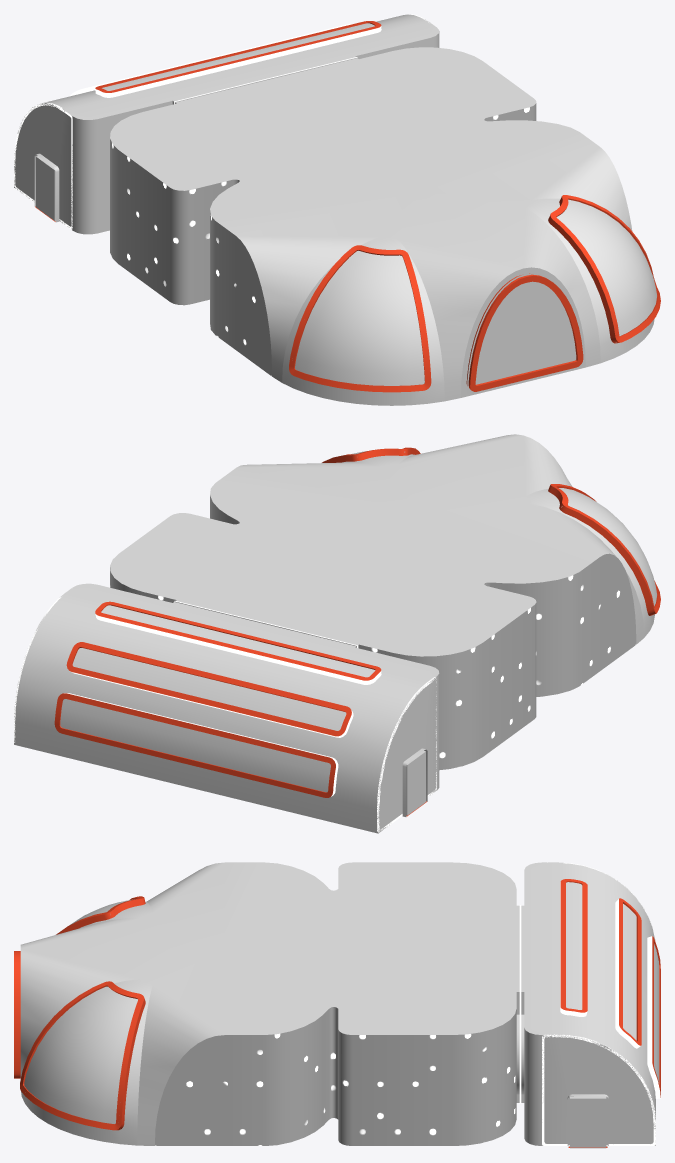
The model's file is MetaverseEnvironment03.fbx.
The picture shows the model from 3 angles, top to bottom: view 1: azimuth 30°, elevation 25°; view 2: azimuth 150°, elevation 25°; view 3: azimuth 270°, elevation 25°; orthographic projection. The views are drawn at different scales.
Parts seen in each view (by area): view 1: Base, Widnows, Doors, Lights_doors; view 2: Base, Widnows, Doors, Lights_doors; view 3: Base, Widnows, Doors, Lights_doors.
Part boxes in pixels (x1,y1,x2,y2): Base: [14, 14, 660, 405]; Widnows: [102, 23, 656, 393]; Doors: [34, 153, 59, 222]; Lights_doors: [14, 14, 428, 229]; Base: [14, 434, 660, 833]; Widnows: [60, 451, 656, 792]; Doors: [402, 748, 427, 816]; Lights_doors: [14, 597, 436, 832]; Base: [14, 862, 660, 1147]; Widnows: [24, 882, 659, 1123]; Doors: [567, 1094, 608, 1148]; Lights_doors: [542, 862, 655, 1145].
Size of what is drawn, in the model's own units: 2045 by 673 by 3168.
